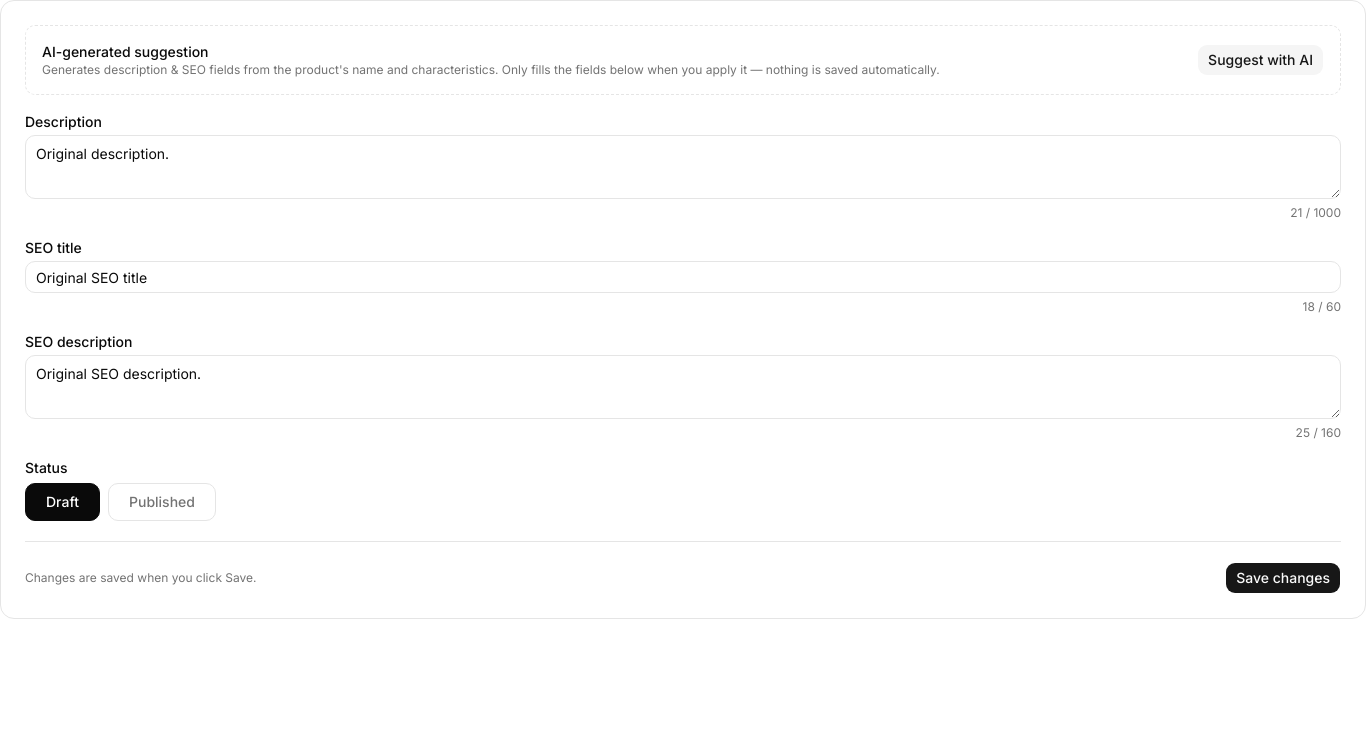
Test: ProductEditorForm suggestion flow › applies the suggestion to the editor fields without saving
Click the button "Suggest with AI": (1261, 60) [1197,44,1324,76]
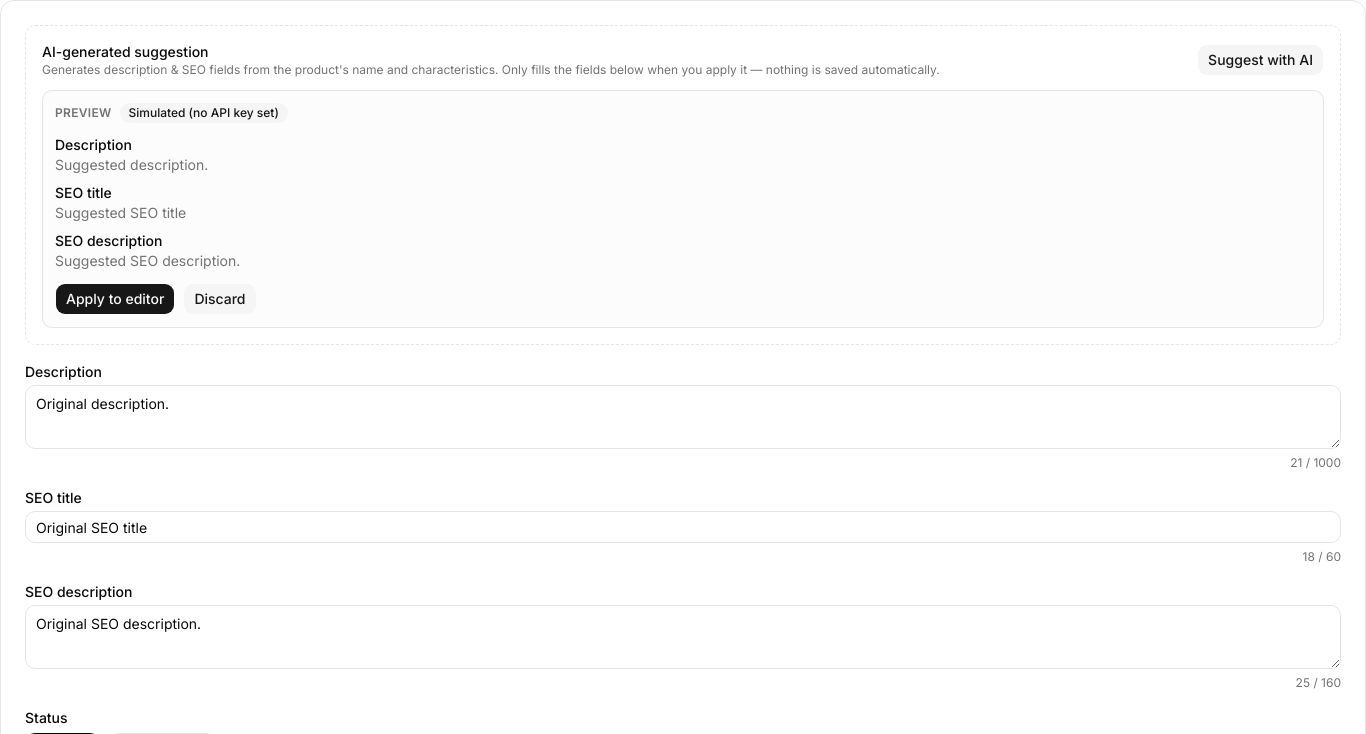
Expected: the text "Suggested description." is shown, [55,156,208,173]
Click the button "Apply to editor": (115, 299) [55,283,175,315]
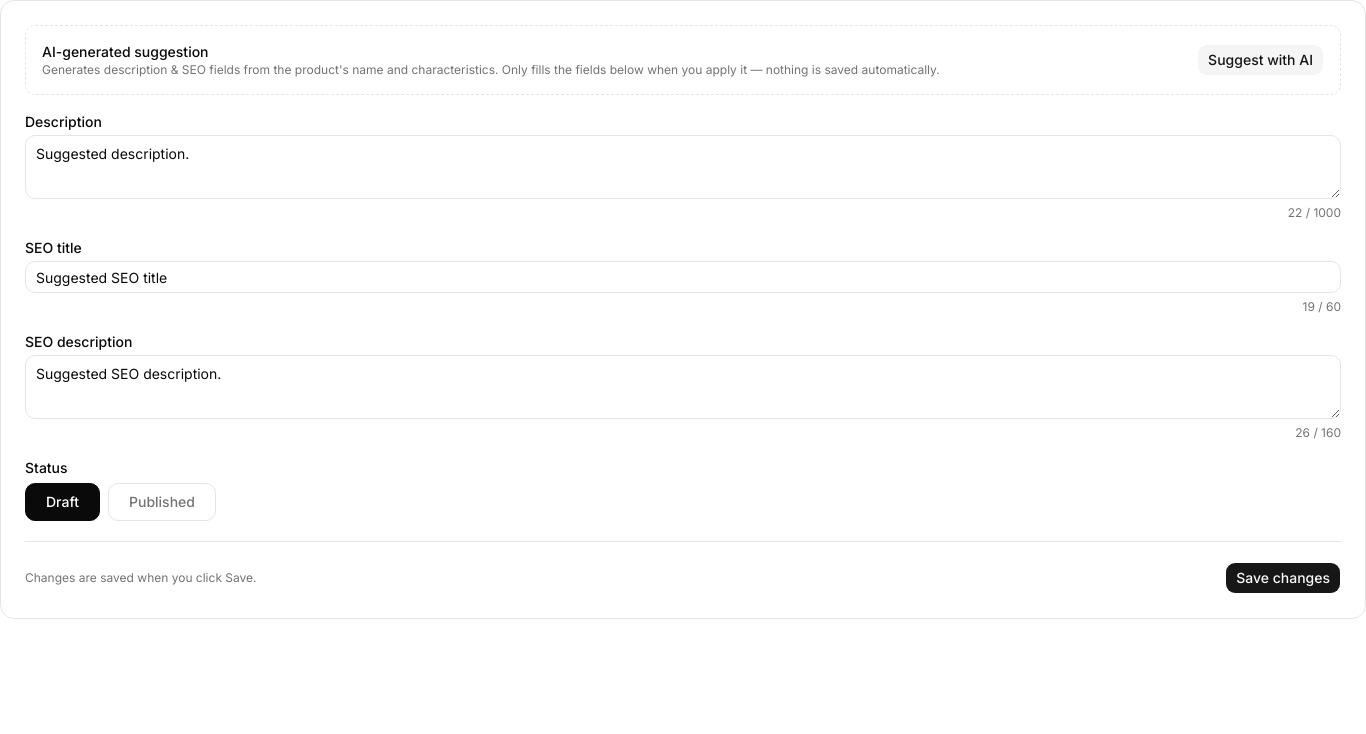
Expected: the text box labelled "Description" holds "Suggested description.", [25,135,1341,199]
Expected: the field labelled "SEO title" holds "Suggested SEO title", [25,261,1341,293]
Expected: the text box labelled "SEO description" holds "Suggested SEO description.", [25,355,1341,419]
